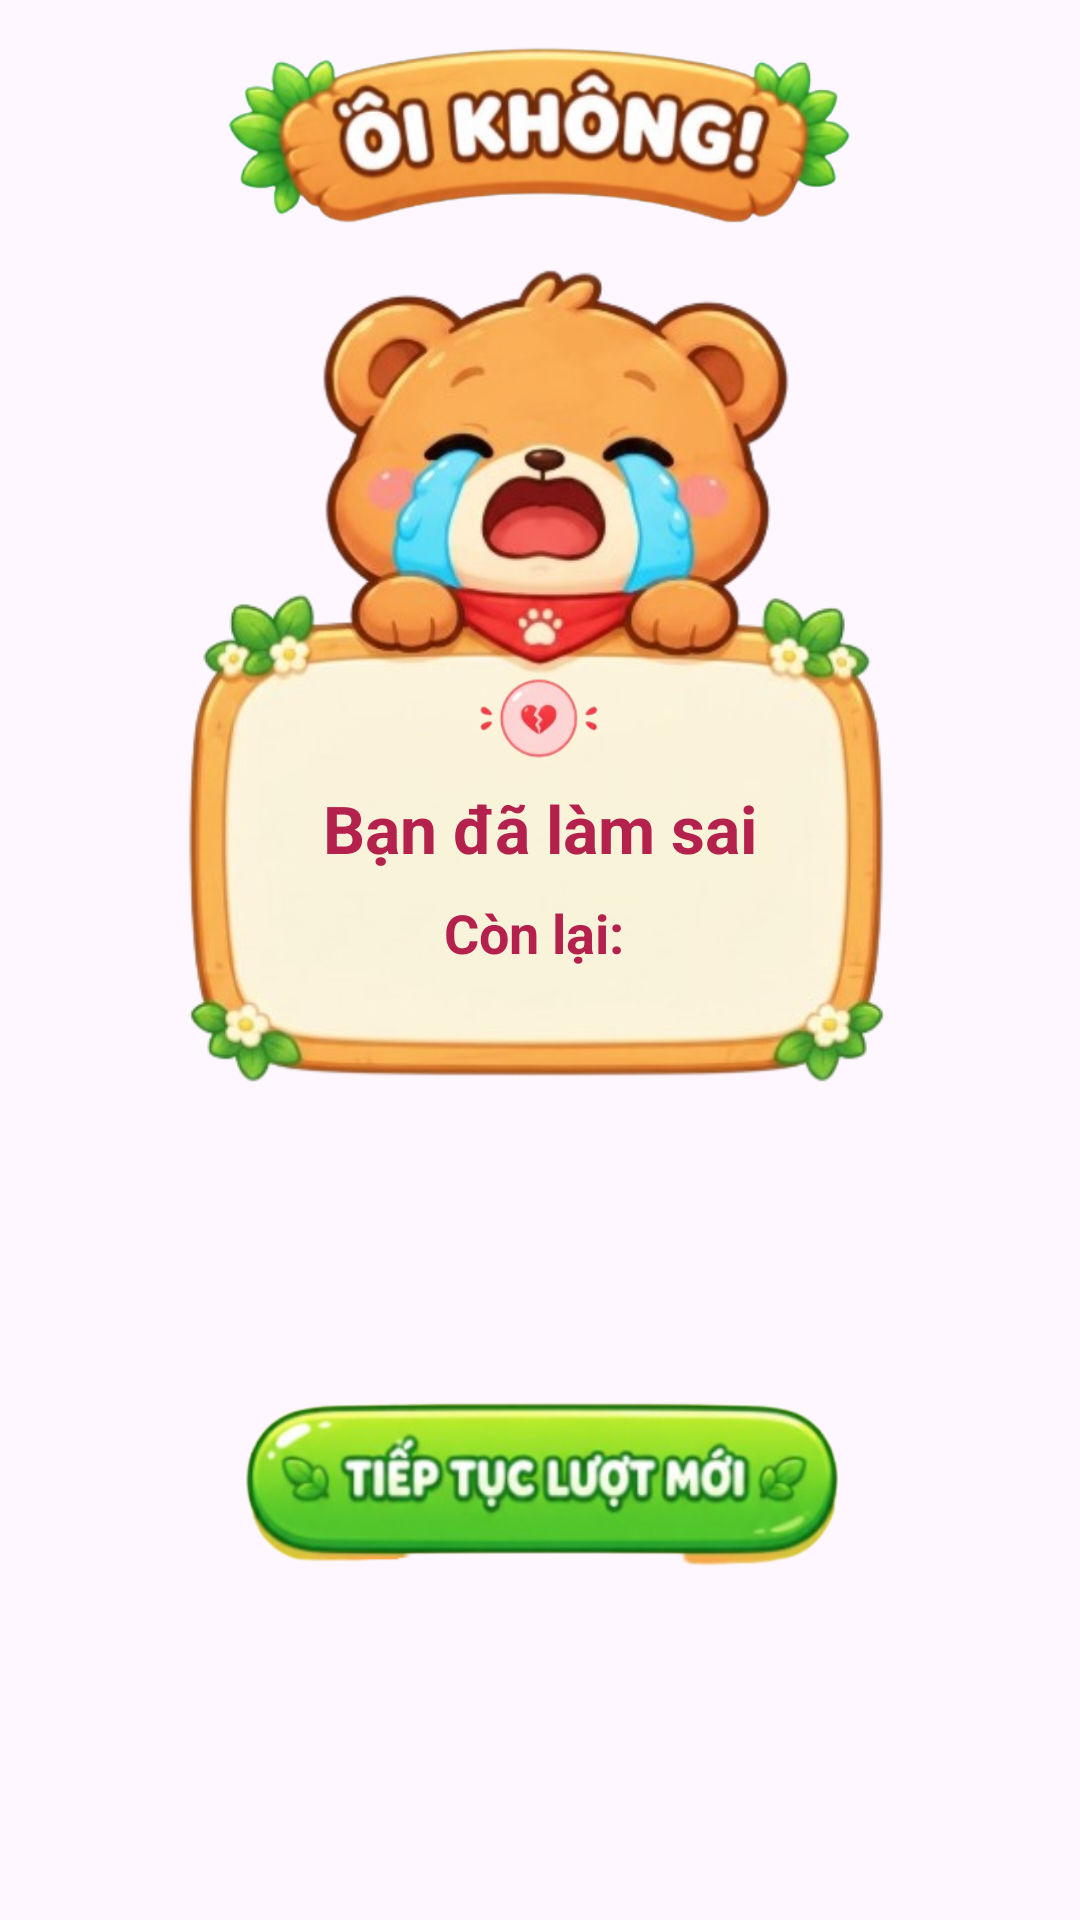

Icon click points for this 1080px×1920px phone screenshot, format (x,y):
iconmattim: (539,718)
